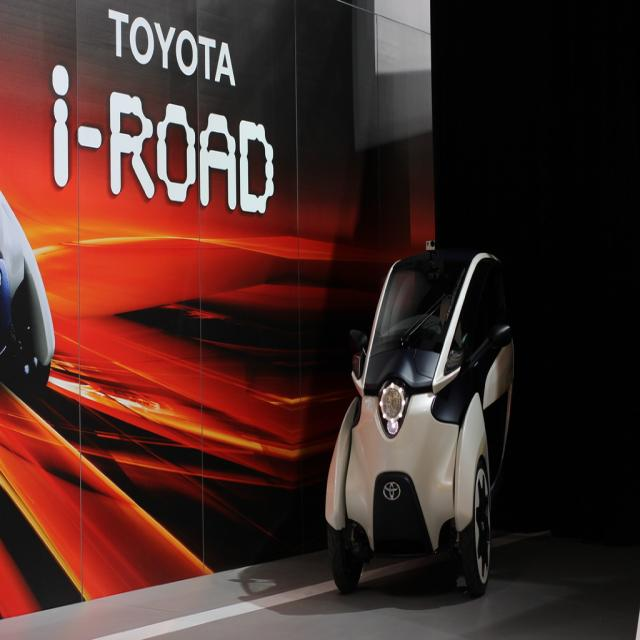other: (329, 228, 509, 607)
